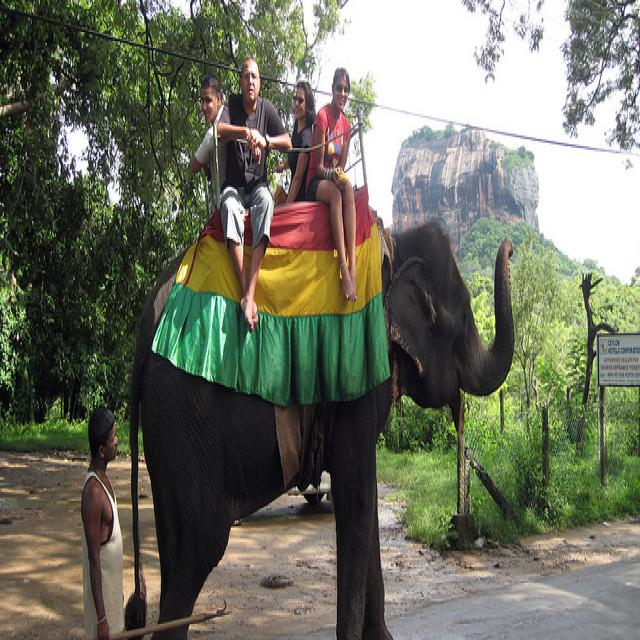Elephant: (124, 209, 515, 638)
person: (218, 55, 292, 332), (305, 66, 357, 301), (80, 405, 125, 638), (273, 78, 316, 204)
